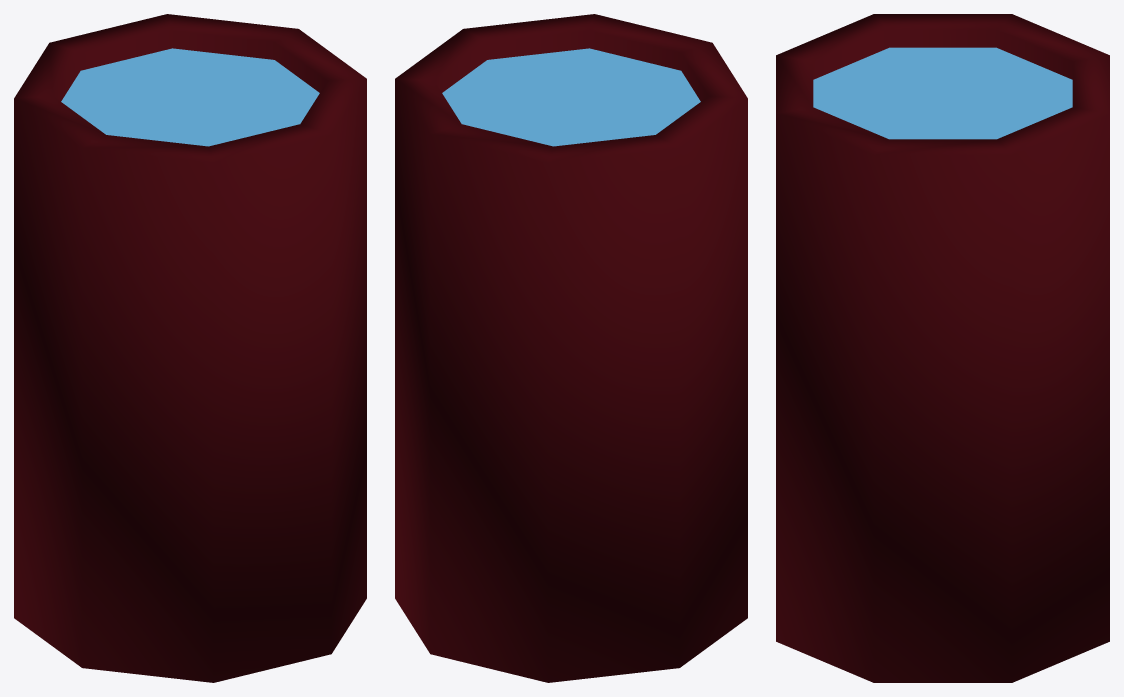
Rendered from Cup.fbx.
3 renders of one model, left to right at view 1: azimuth 30°, elevation 25°; view 2: azimuth 150°, elevation 25°; view 3: azimuth 270°, elevation 25°, orthographic.
Visible parts, largest first — view 1: Cup, Cup_Water; view 2: Cup, Cup_Water; view 3: Cup, Cup_Water.
Boxes of the visible parts, left/top/right/bottom form: Cup: left=14, top=14, right=366, bottom=682; Cup_Water: left=61, top=48, right=319, bottom=146; Cup: left=395, top=14, right=747, bottom=682; Cup_Water: left=442, top=48, right=700, bottom=146; Cup: left=776, top=14, right=1109, bottom=682; Cup_Water: left=813, top=47, right=1072, bottom=139.
Size of the model in its own units: 0.0582 by 0.1016 by 0.0582.
